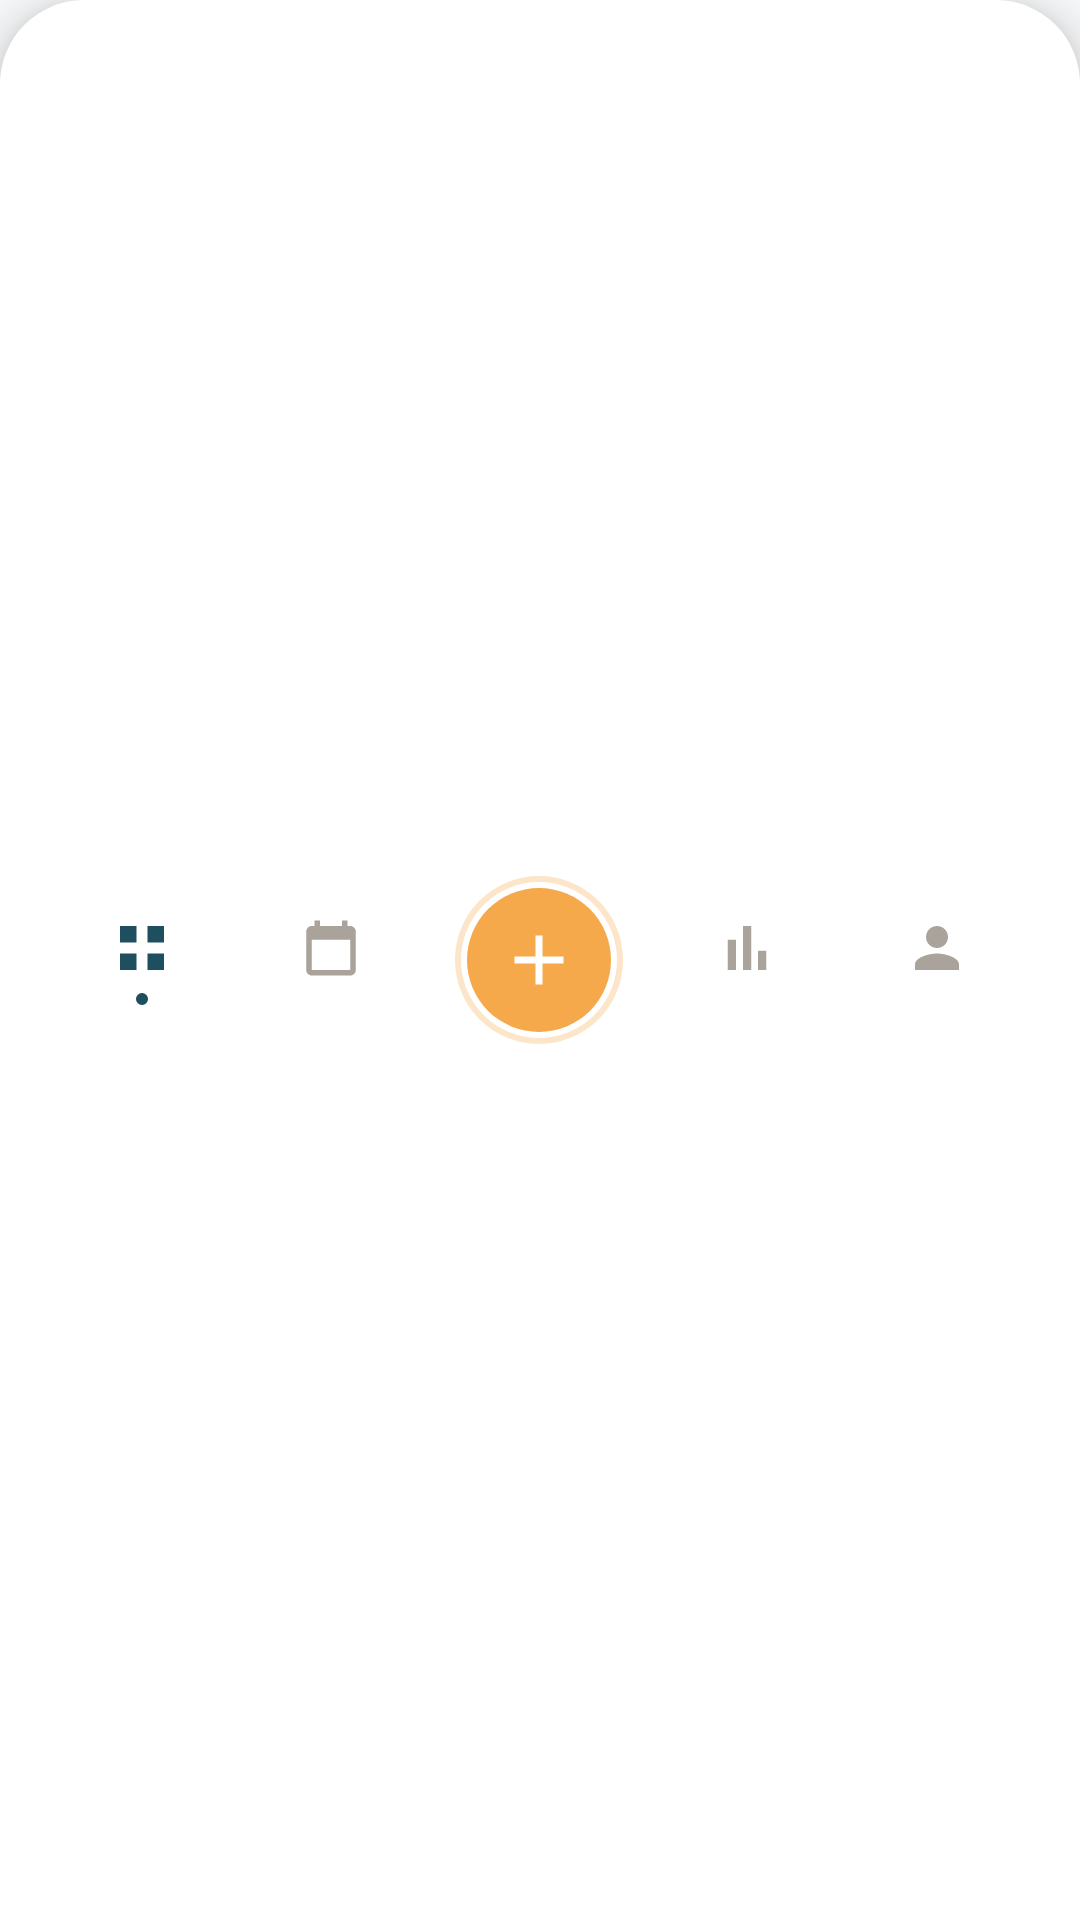

Icon bounding boxes for this 1080*1920 phone screenshot, format (x1, y1, x2, y2):
calendar: (306, 920, 356, 976)
Danh sách chi tiêu: (120, 926, 164, 970)
profile: (915, 926, 959, 970)
Thêm khoản chi: (455, 876, 623, 1044)
Thống kê theo danh mục: (727, 926, 767, 970)
